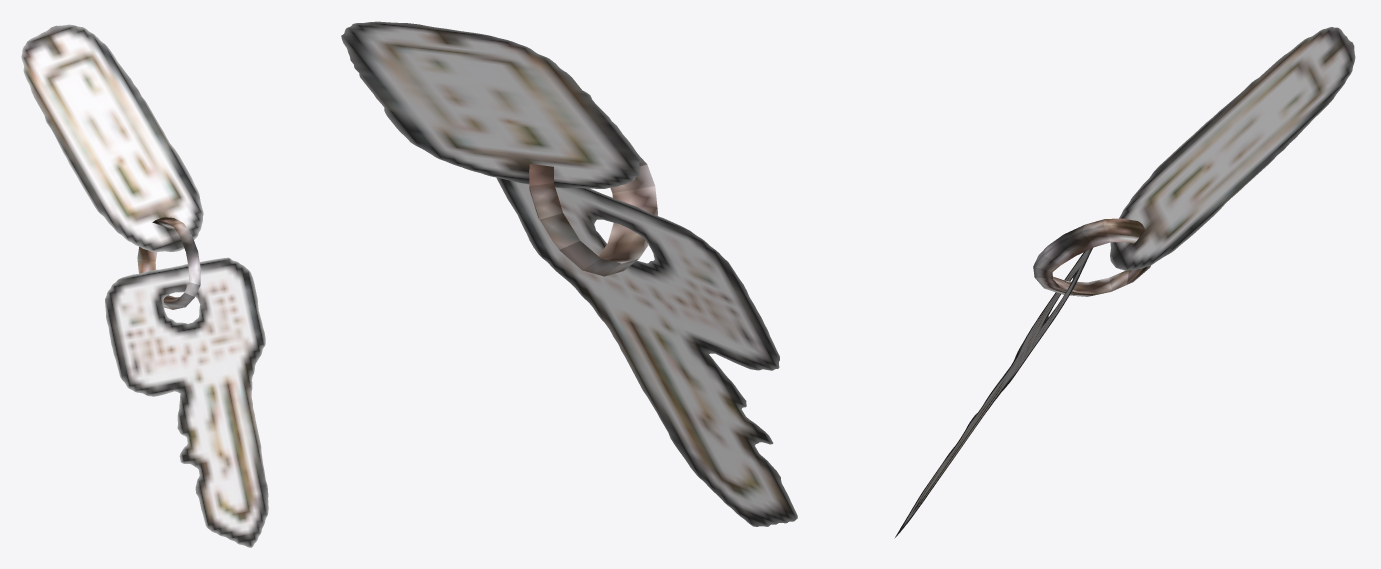
Rendered from Key.fbx.
3 views of the same model, side by side, from view 1: azimuth 30°, elevation 25°; view 2: azimuth 150°, elevation 25°; view 3: azimuth 270°, elevation 25° (orthographic). The views are drawn at different scales.
Parts seen in each view (by area): view 1: Key; view 2: Key; view 3: Key.
Boxes of the visible parts, x1,y1,x2,y2 form: Key: (21,24,268,547); Key: (341,21,797,526); Key: (894,27,1355,538).
Bounding box in the file's own units: 7.72 × 19.04 × 16.65.
1 material, 1 textured.
